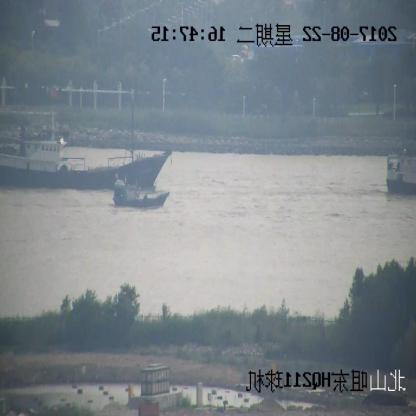Fishing Boat: (1, 92, 169, 192), (112, 180, 169, 209), (387, 153, 415, 194)
